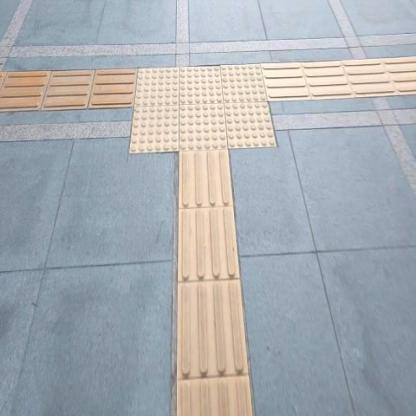podotacti: (112, 35, 295, 180), (177, 152, 253, 415), (268, 52, 416, 101), (0, 72, 133, 112)
